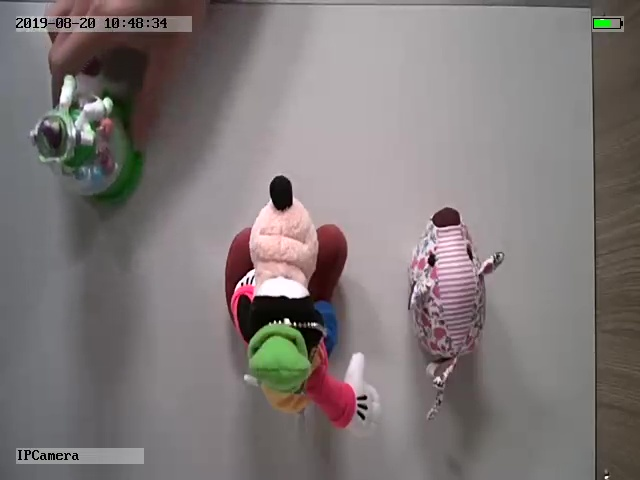buzz: (30, 73, 145, 200)
goofy: (222, 172, 384, 438)
pig: (402, 203, 505, 423)
